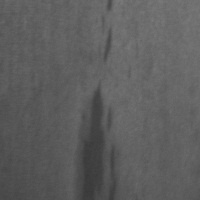inclusion: (76, 79, 118, 199), (95, 1, 119, 66)
